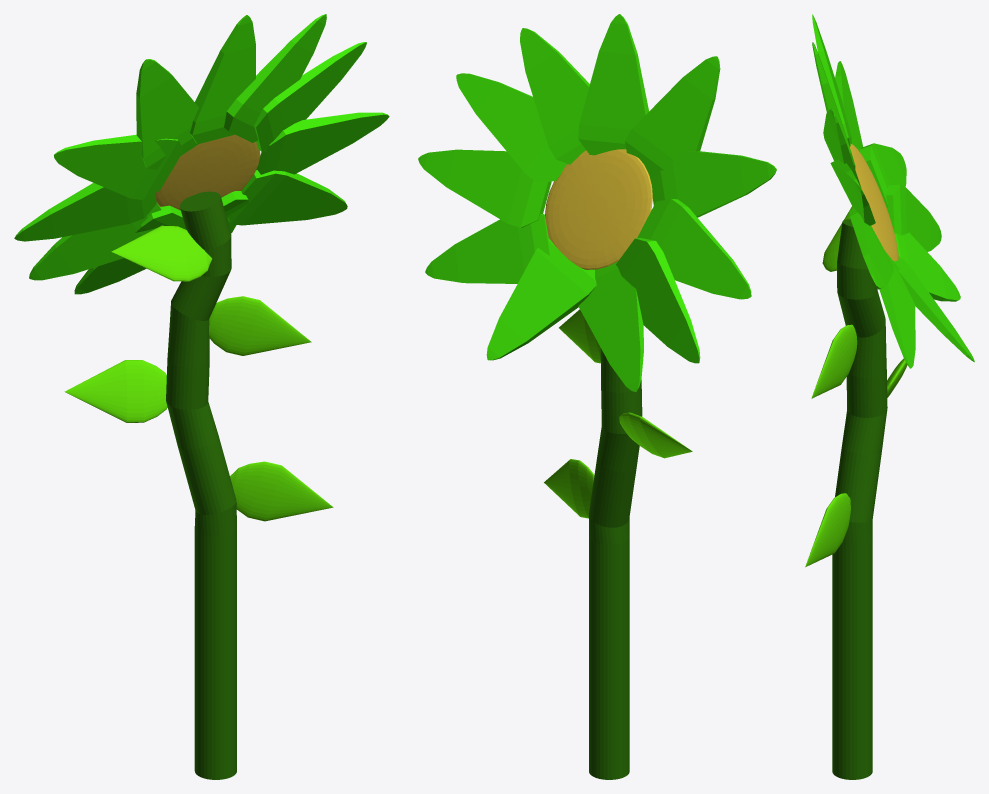
The model's file is greenFlower.fbx.
The picture shows the model from 3 angles, left to right: view 1: azimuth 30°, elevation 25°; view 2: azimuth 150°, elevation 25°; view 3: azimuth 270°, elevation 25°; orthographic projection. The views are drawn at different scales.
Visible parts, largest first — view 1: greenFlower; view 2: greenFlower; view 3: greenFlower.
Part boxes in pixels (x1=…): greenFlower: x1=14, y1=14, x2=389, y2=779; greenFlower: x1=418, y1=14, x2=776, y2=779; greenFlower: x1=805, y1=14, x2=974, y2=779.
Size of the model in its own units: 15.18 by 30.94 by 6.49.
